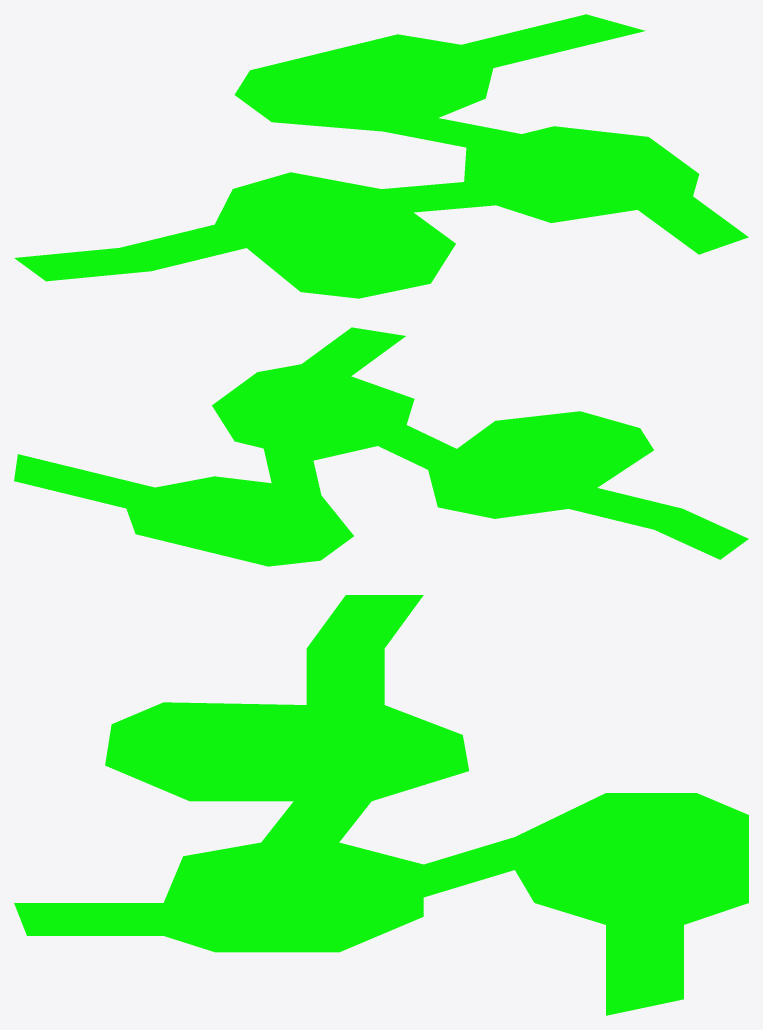
Rendered from s01a_tc3-floor.glb.
3 views of the same model, one above another, from view 1: azimuth 30°, elevation 25°; view 2: azimuth 150°, elevation 25°; view 3: azimuth 270°, elevation 25° (orthographic). The views are drawn at different scales.
Visible parts, largest first — view 1: collision_floor-colonly; view 2: collision_floor-colonly; view 3: collision_floor-colonly.
Part boxes in pixels (x1=…): collision_floor-colonly: x1=14, y1=14, x2=748, y2=298; collision_floor-colonly: x1=14, y1=327, x2=748, y2=566; collision_floor-colonly: x1=14, y1=595, x2=748, y2=1015.
Bounding box in the file's own units: 76.53 × 0 × 56.5.
